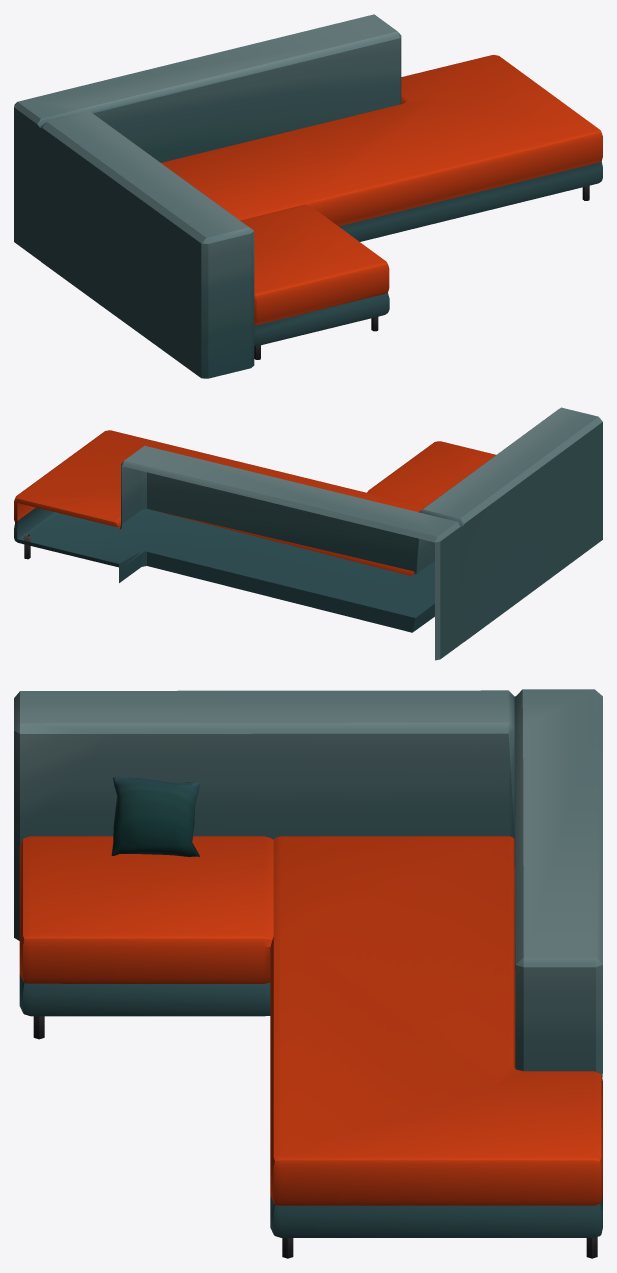
File: Sufa.fbx
3 renders of one model, top to bottom at view 1: azimuth 30°, elevation 25°; view 2: azimuth 150°, elevation 25°; view 3: azimuth 270°, elevation 25°, orthographic. The views are drawn at different scales.
Visible parts, largest first — view 1: sufa; view 2: sufa; view 3: sufa, Pillow.
Boxes of the visible parts, box(x1,y1,x2,y2) form: sufa: box(14, 14, 602, 378); sufa: box(14, 407, 602, 660); sufa: box(14, 689, 602, 1258); Pillow: box(111, 776, 200, 856).
Size of the model in its own units: 291 by 80.86 by 199.
Materials: 1 (1 with a texture image).
